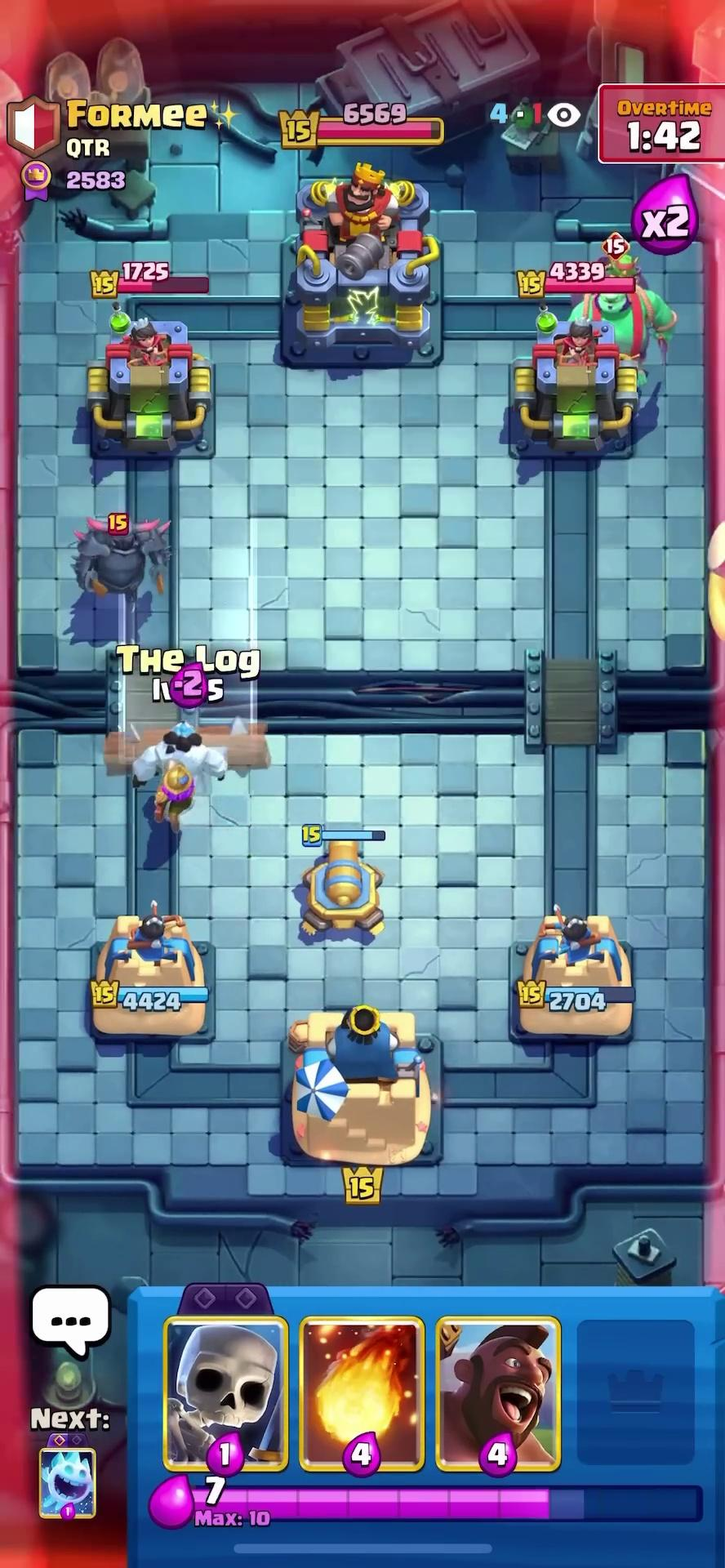cannon: (288, 817, 394, 939)
ice_golem: (137, 713, 227, 792)
musketeer: (147, 751, 202, 831)
